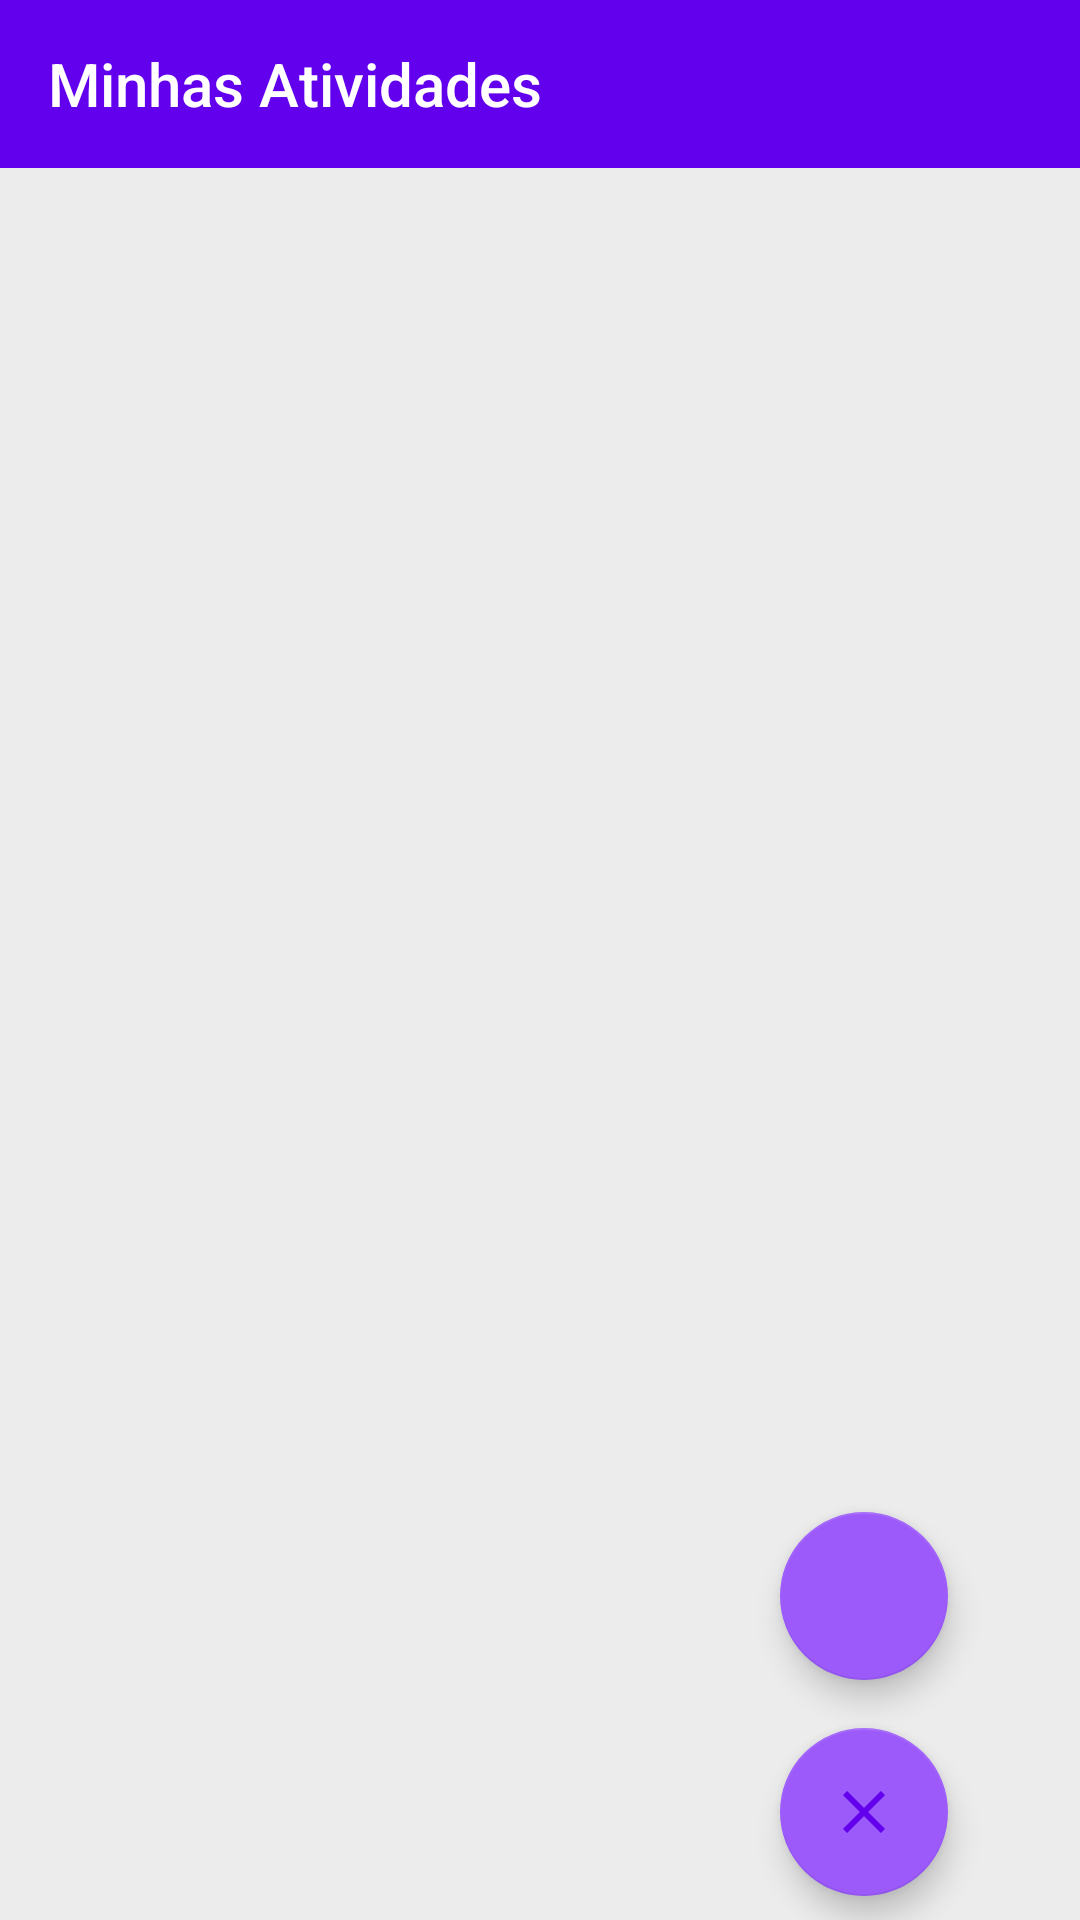

Icons on this 1080x1920 Android screen, each with the point to tap as (x=x, y=y):
del: (x=864, y=1812)
